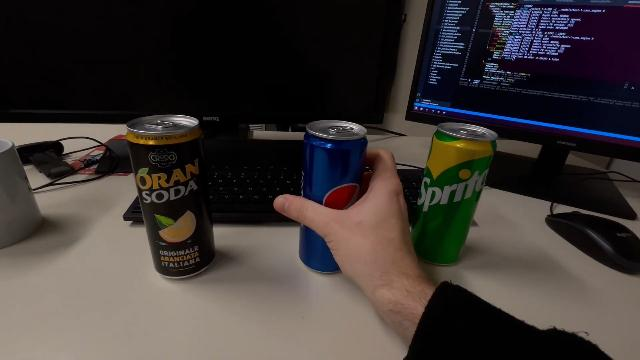OranSoda: (123, 113, 217, 284)
Pepsi: (296, 117, 370, 277)
Sprite: (408, 117, 500, 267)
